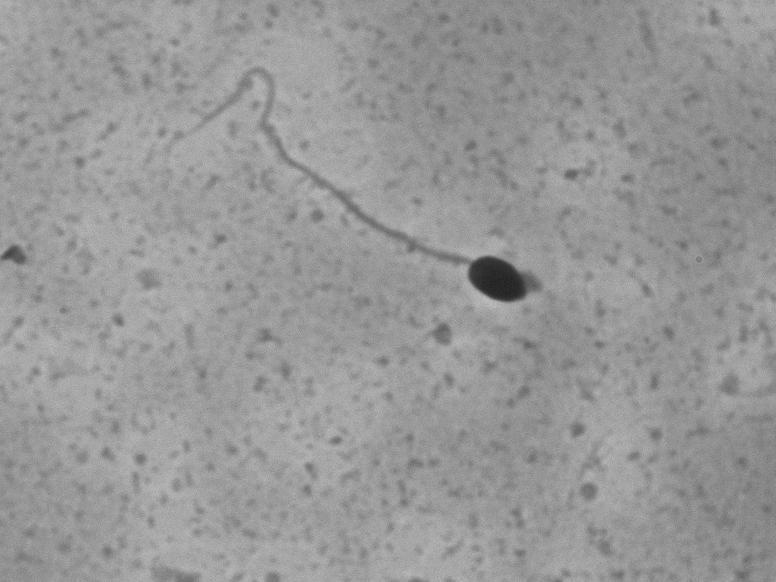Abnormal: (159, 56, 545, 317)
